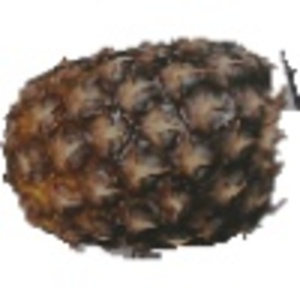abacaxi: (4, 31, 283, 250)
